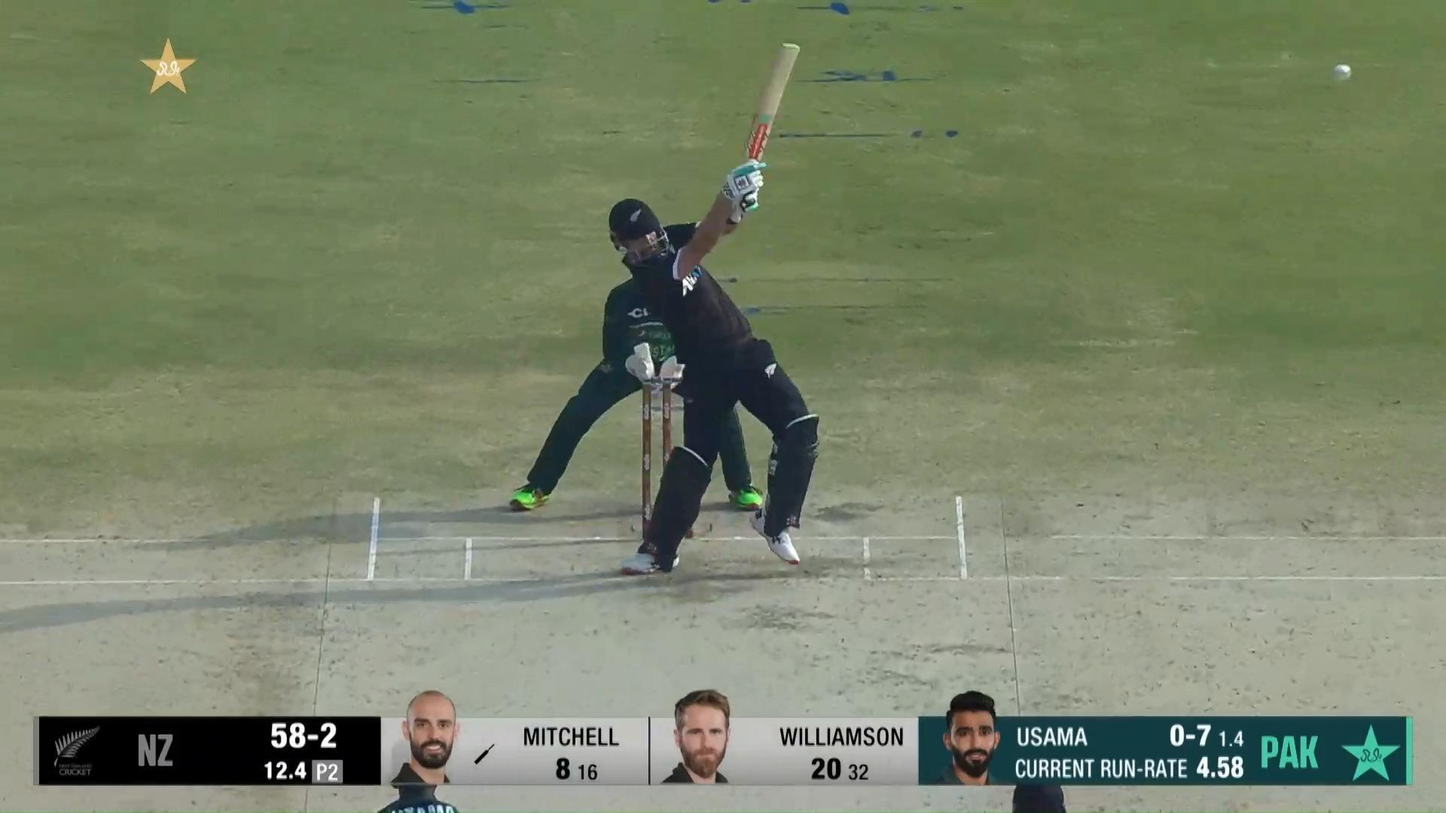BM 1: (608, 40, 821, 575)
BO: (375, 739, 460, 813)
